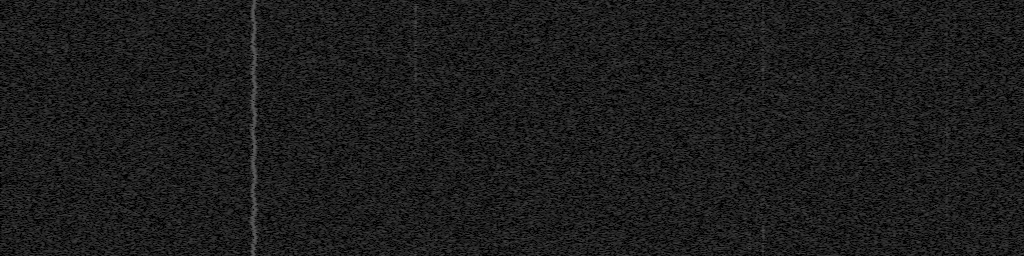wv_am: (945, 163, 949, 256), (945, 0, 949, 60), (945, 61, 949, 116), (945, 138, 949, 160), (945, 117, 949, 125), (944, 131, 949, 136), (945, 126, 949, 130)
wv_lsb: (413, 37, 418, 147), (413, 2, 418, 29), (414, 247, 418, 256), (414, 239, 418, 245), (414, 30, 418, 36), (414, 199, 417, 202)
wv_usb: (761, 10, 766, 67), (748, 192, 752, 249), (761, 221, 766, 256), (747, 23, 752, 56), (761, 68, 766, 98), (748, 67, 752, 85), (748, 119, 752, 134), (748, 97, 752, 112), (748, 138, 752, 151), (748, 179, 752, 191), (748, 2, 752, 12), (748, 13, 752, 22), (748, 152, 752, 160), (748, 86, 752, 93), (761, 99, 765, 106), (748, 250, 752, 256), (748, 113, 752, 118), (761, 107, 765, 112), (761, 2, 766, 6), (748, 161, 752, 164), (761, 212, 765, 215), (762, 137, 765, 140), (762, 116, 765, 119)
wv_wbfm: (248, 0, 260, 256)
